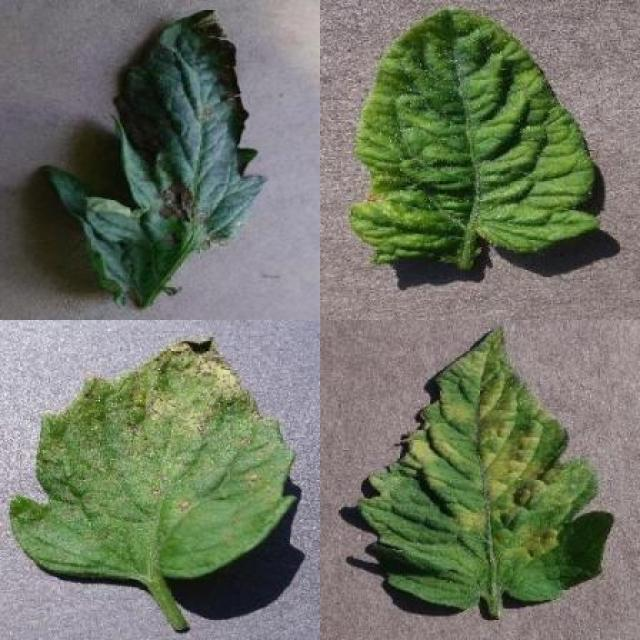Early Blight: (42, 6, 268, 311)
Leaf Mold: (359, 325, 617, 611)
Septoria: (10, 336, 296, 581)
Yellow Leaf Curl Virus: (348, 9, 598, 267)
